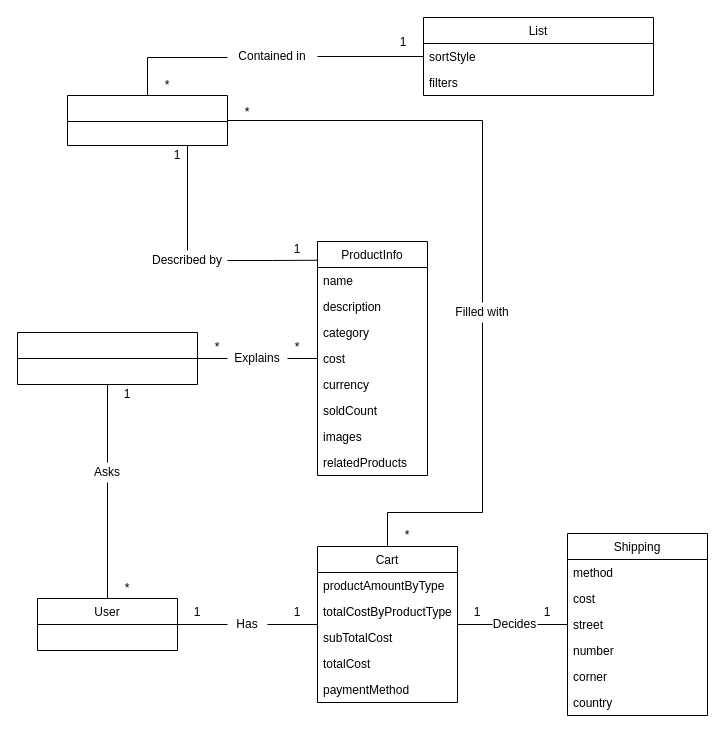
This 725x736 diagram has some shape labels left out. Here are the shapes that lost their labels. From the top down, the box of each, then its label:
(66, 94, 228, 146): Product
(16, 332, 198, 384): Vendor
